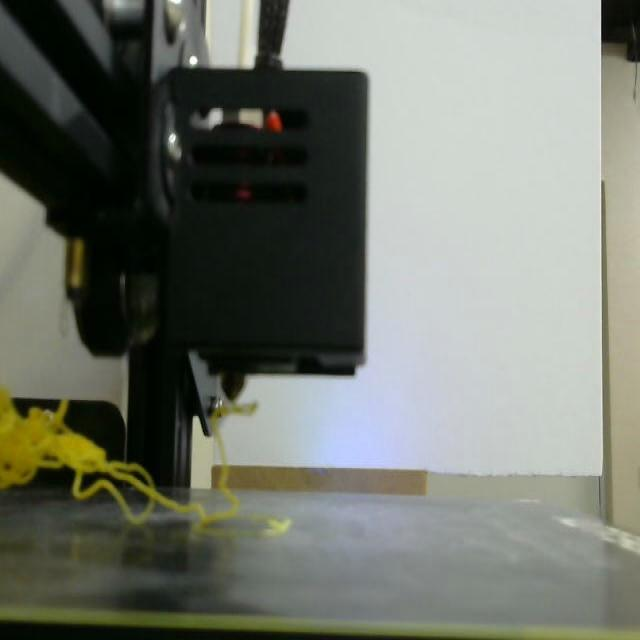spaghetti: (0, 388, 256, 529)
